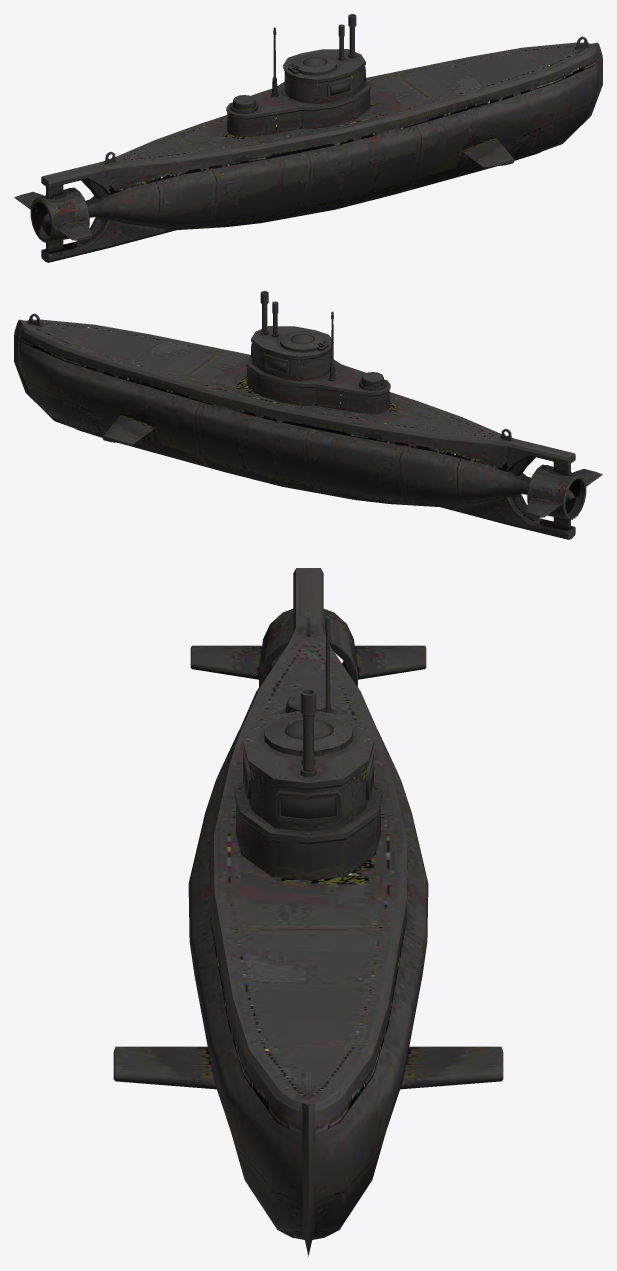
The picture shows the model from 3 angles, top to bottom: view 1: azimuth 30°, elevation 25°; view 2: azimuth 150°, elevation 25°; view 3: azimuth 270°, elevation 25°; orthographic projection. The views are drawn at different scales.
Visible parts, largest first — view 1: body0_model0_lod0_mesh0; view 2: body0_model0_lod0_mesh0; view 3: body0_model0_lod0_mesh0.
Boxes of the visible parts, box(x1,y1,x2,y2) form: body0_model0_lod0_mesh0: box(14, 14, 602, 262); body0_model0_lod0_mesh0: box(14, 291, 602, 539); body0_model0_lod0_mesh0: box(113, 568, 503, 1256).
Size of the model in its own units: 661 by 211 by 199.
Materials: 1 (1 with a texture image).
